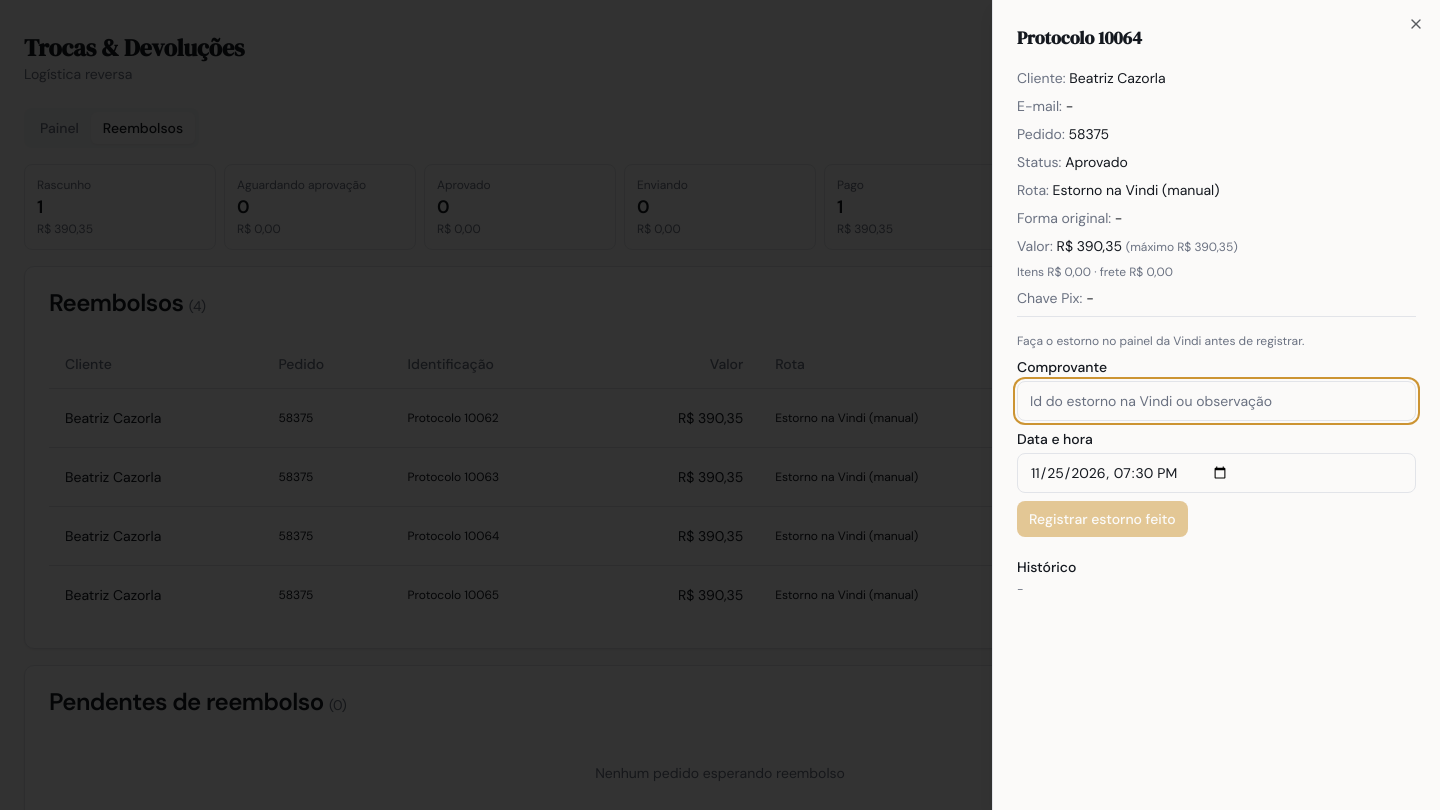
Test case: ações do reembolso › registrar estorno manual e painel vira Pago
The image size is (1440, 810).
Expected: the dialog shows "Faça o estorno no painel da Vindi antes de registrar.", x1=1017 y1=333 x2=1304 y2=349
In the field labelled "Comprovante": (1216, 401) x1=1017 y1=381 x2=1416 y2=421, type "EST-9"
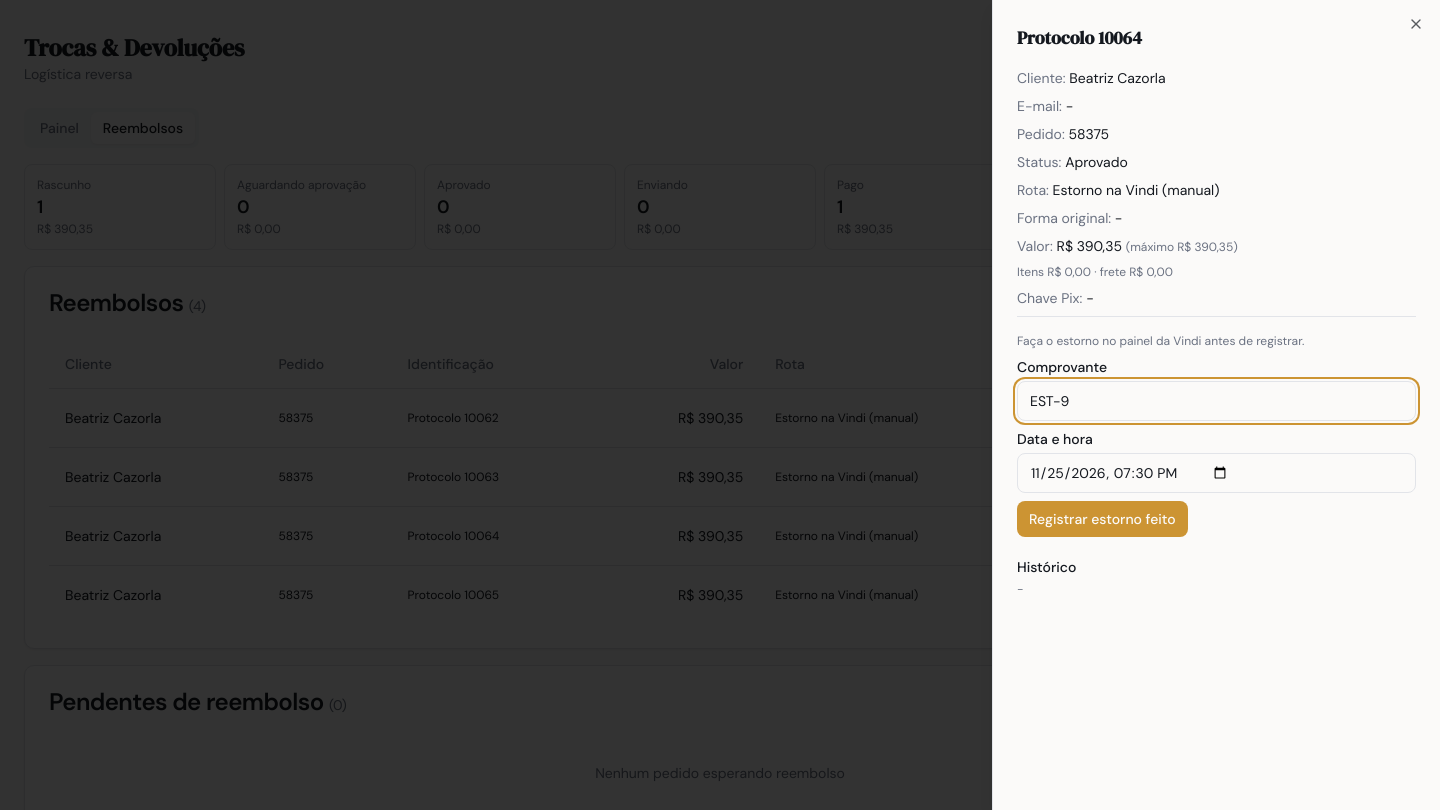
Click the button "Registrar estorno feito": (1102, 519) x1=1017 y1=501 x2=1188 y2=537
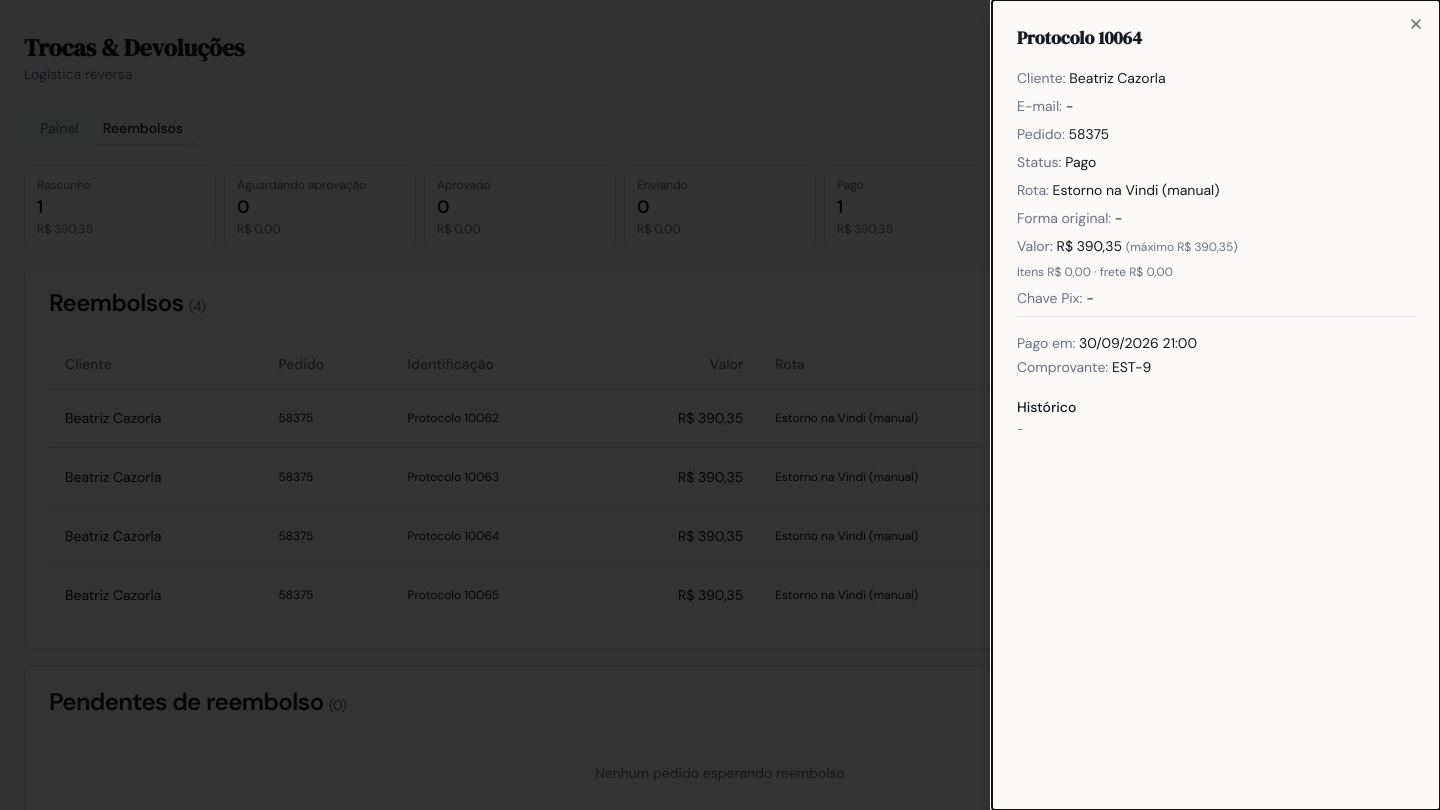
Now the dialog shows "EST-9", box x1=1112 y1=358 x2=1151 y2=376
